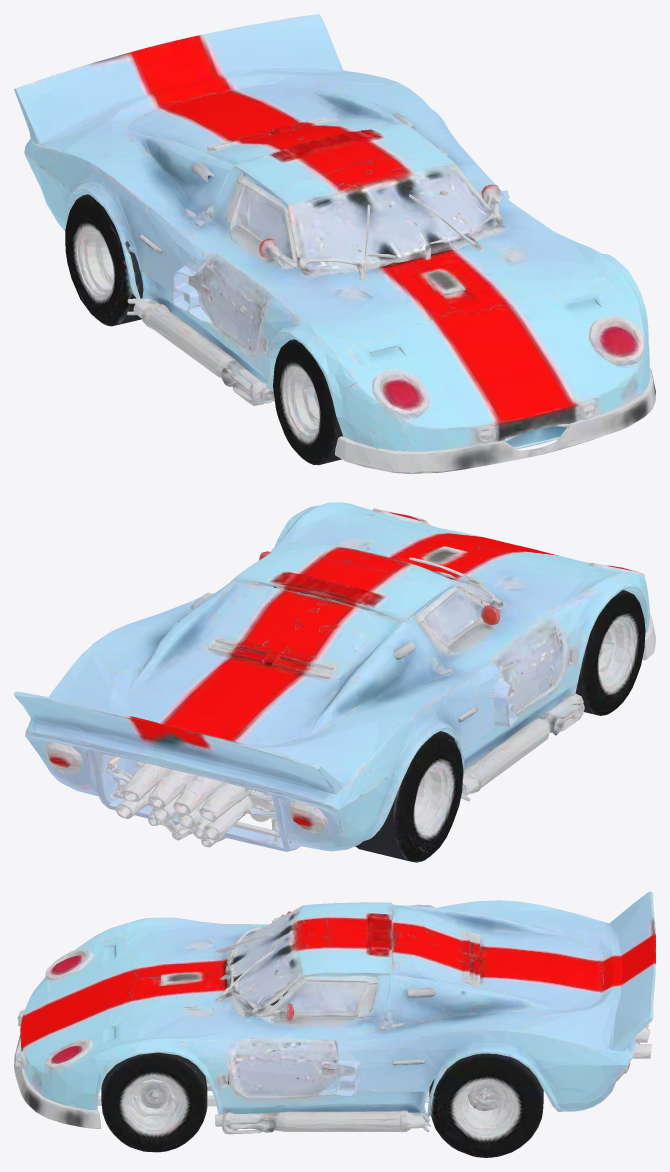
The model's file is hero-prototype-gulf.glb.
3 renders of one model, top to bottom at view 1: azimuth 30°, elevation 25°; view 2: azimuth 150°, elevation 25°; view 3: azimuth 270°, elevation 25°, orthographic. The views are drawn at different scales.
Visible parts, largest first — view 1: geometry_0; view 2: geometry_0; view 3: geometry_0.
Part boxes in pixels (x1=…): geometry_0: x1=14, y1=14, x2=655, y2=473; geometry_0: x1=14, y1=502, x2=655, y2=862; geometry_0: x1=14, y1=891, x2=655, y2=1157.
Bounding box in the file's own units: 0.5255 × 0.2733 × 1.
1 material, 1 textured.
